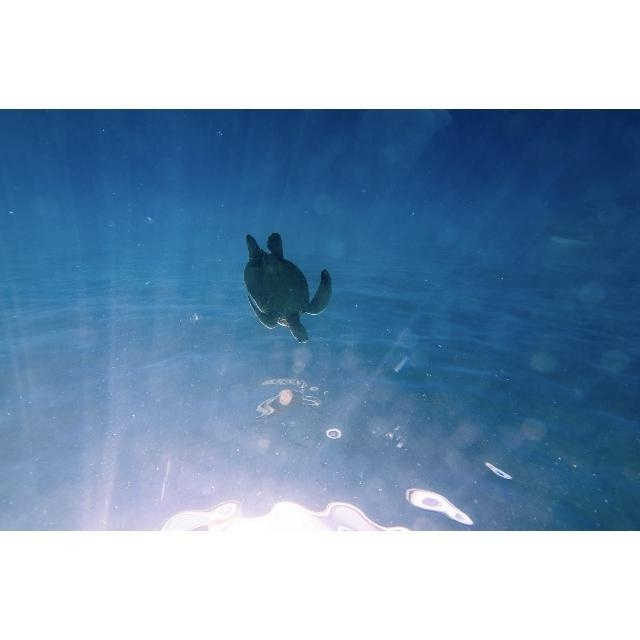turtle: (241, 232, 332, 345)
